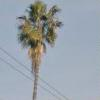Palm tree: (16, 3, 60, 99)
